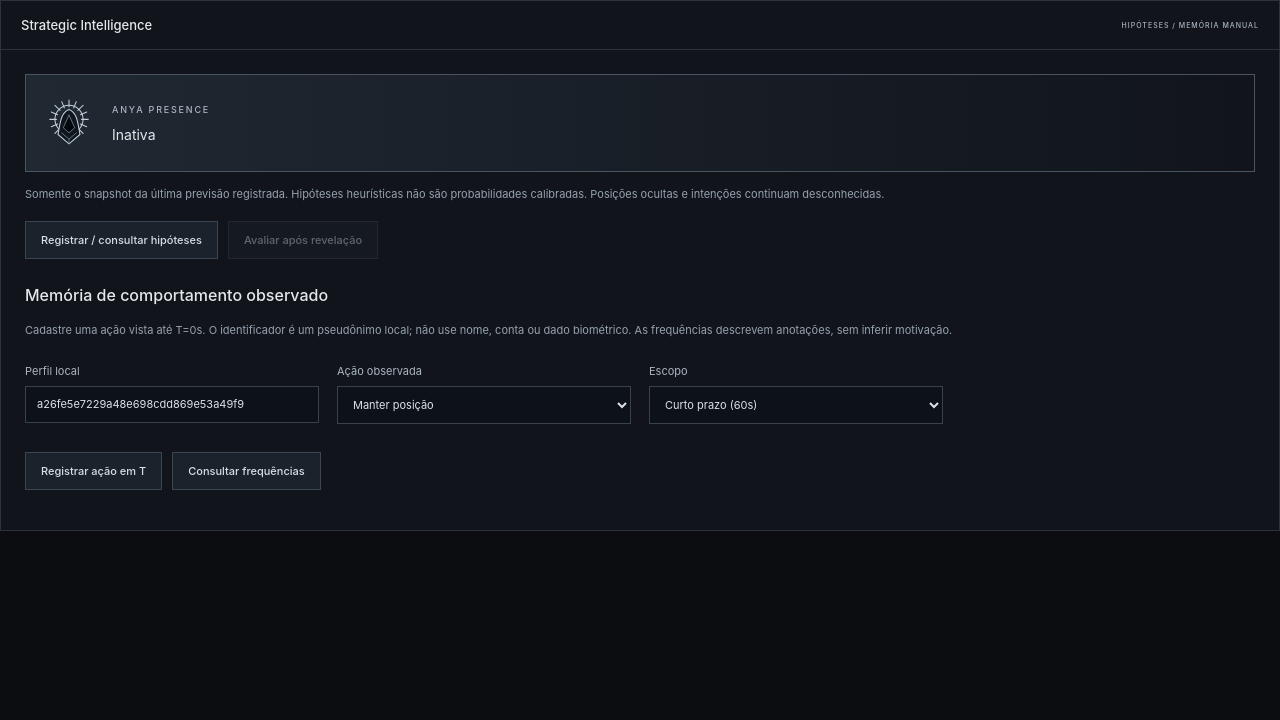
Scenario: strategic inspection uses registered hypotheses without fabricating probabilities
Expected: the button "Avaliar após revelação" is disabled, [228,221,378,259]
Click the button "Registrar / consultar hipóteses" at coordinates (121, 240), box [25,221,218,259]
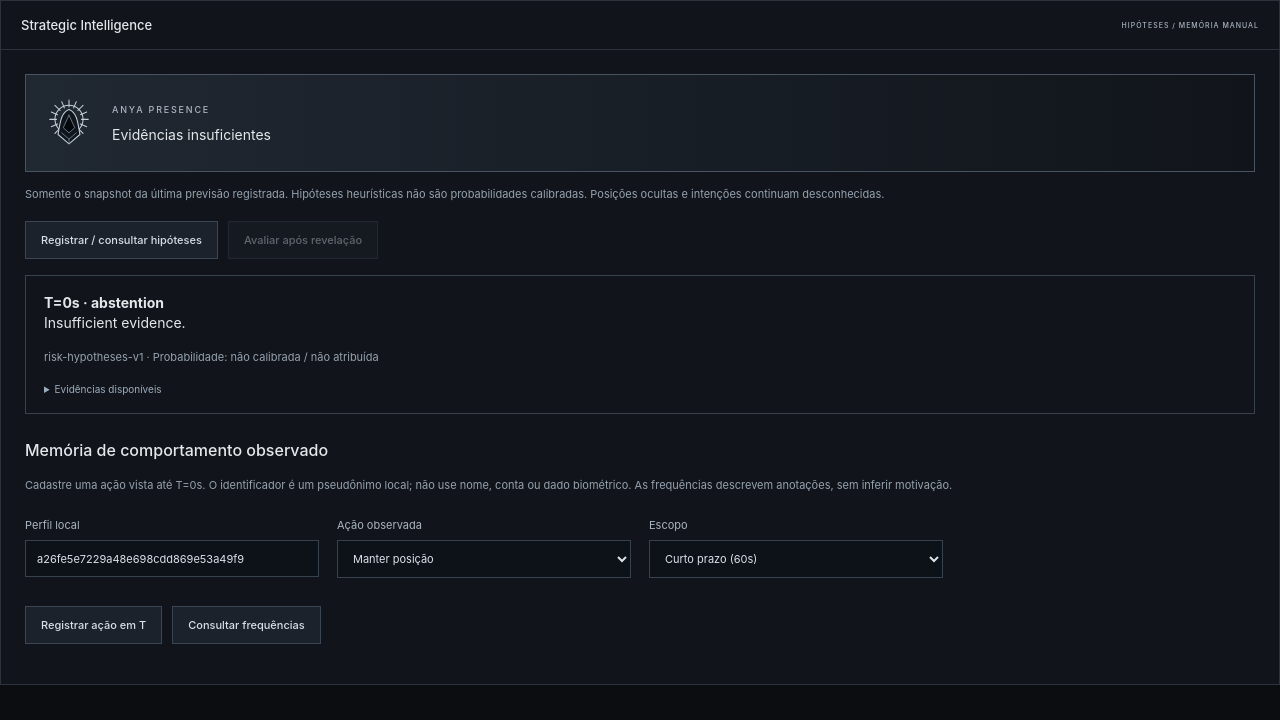
Now the text "Insufficient evidence." is shown, box [44,314,186,331]
Now the text "não calibrada / não atribuída" is shown, box [230,350,379,364]
